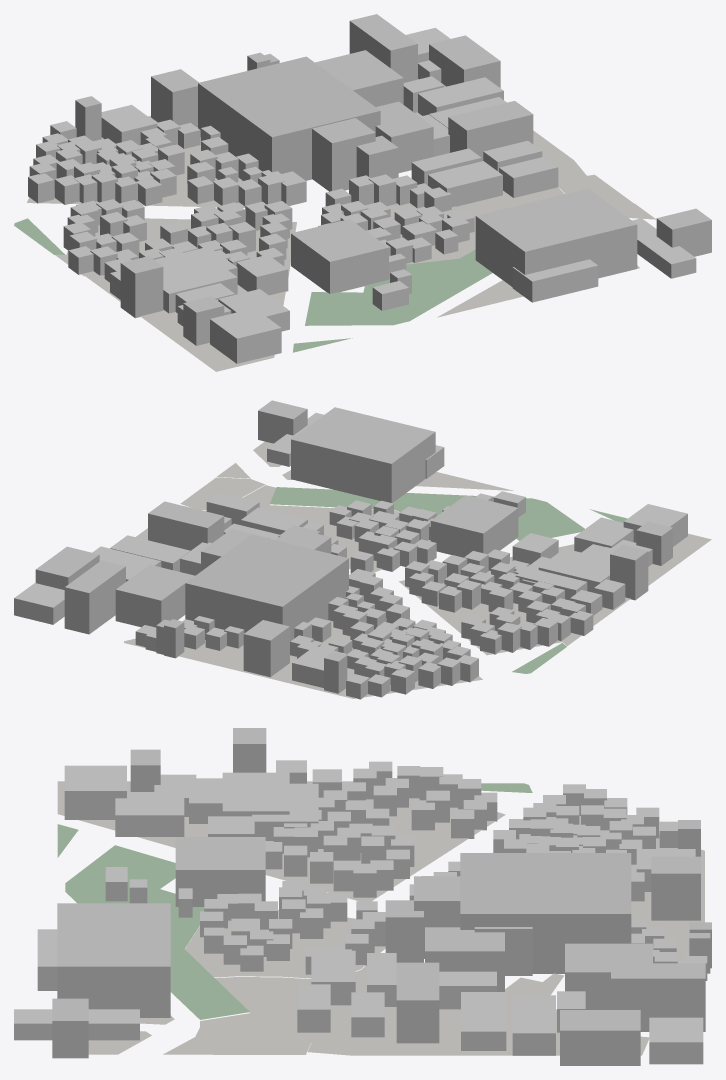
Rendered from 107_97_mid.glb.
The picture shows the model from 3 angles, top to bottom: view 1: azimuth 30°, elevation 25°; view 2: azimuth 150°, elevation 25°; view 3: azimuth 270°, elevation 25°; orthographic projection. The views are drawn at different scales.
Size of the model in its own units: 522 by 51.89 by 539.
